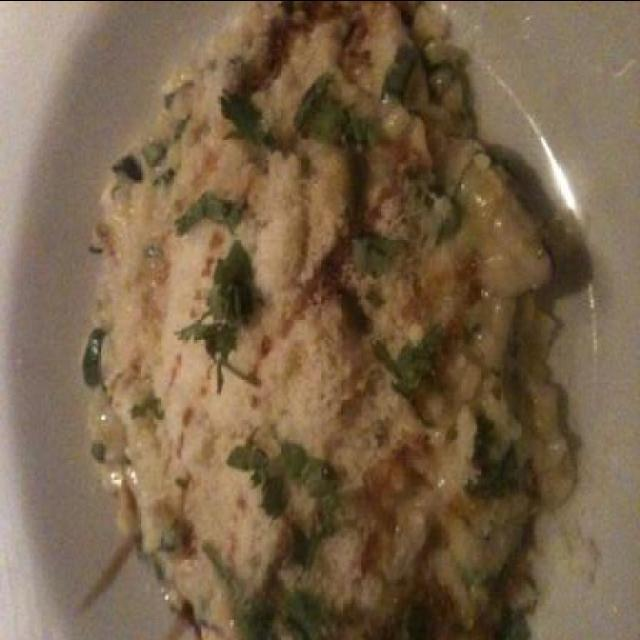Risotto: (86, 33, 574, 625)
